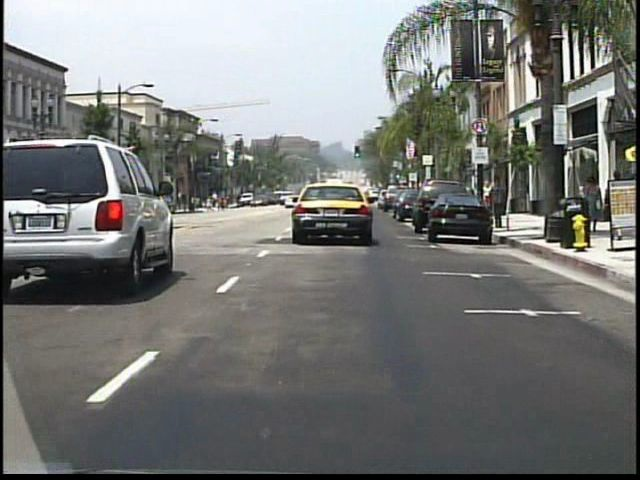person: (603, 168, 624, 242), (585, 174, 603, 235), (483, 180, 494, 215), (236, 194, 244, 210)
